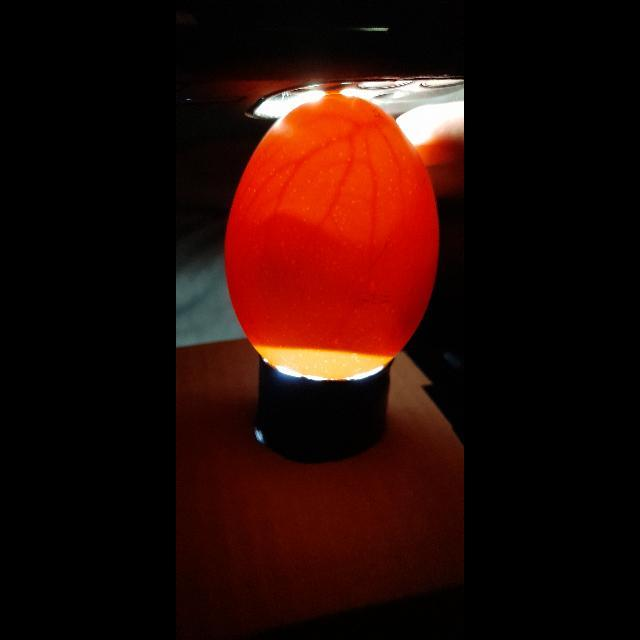Fertile: (222, 87, 446, 387)
